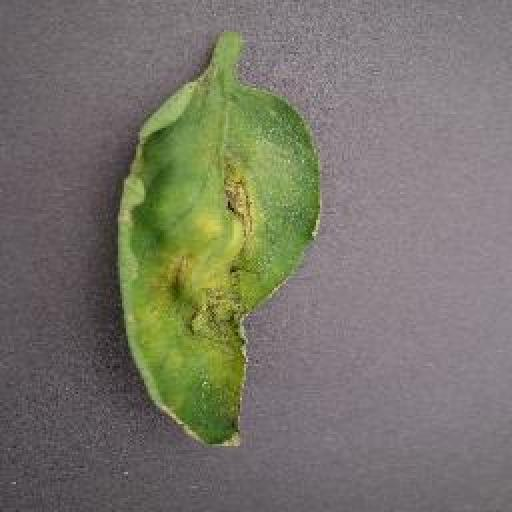Late Blight: (114, 81, 322, 451)
